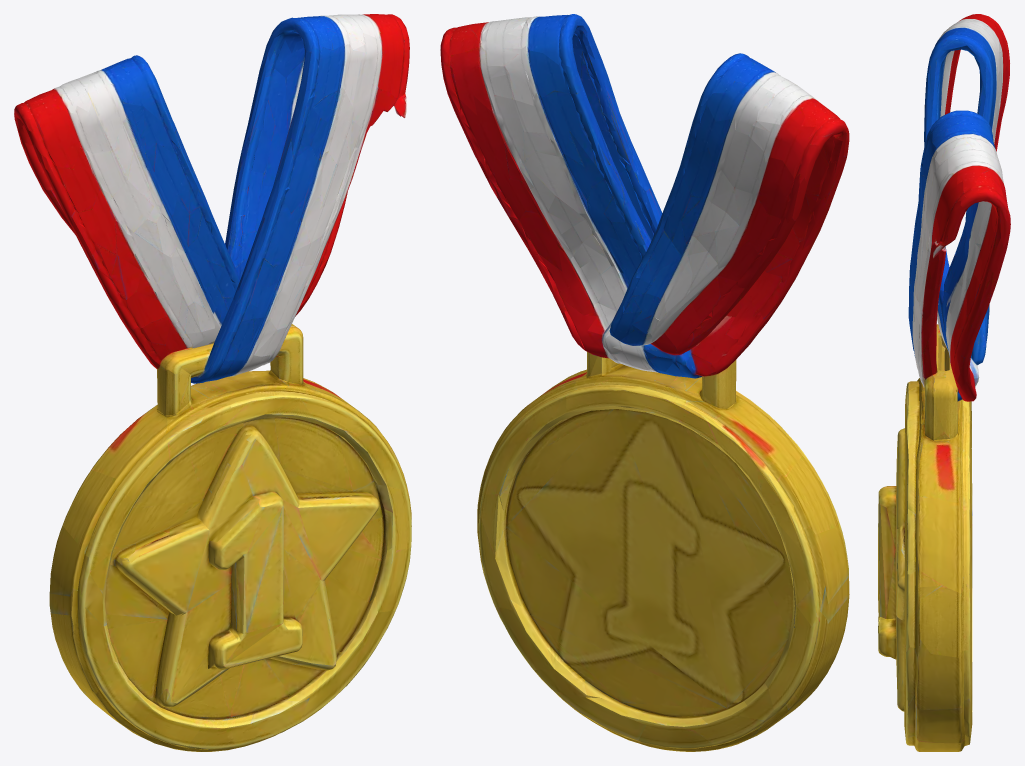
The model's file is gold_medal.glb.
3 renders of one model, left to right at view 1: azimuth 30°, elevation 25°; view 2: azimuth 150°, elevation 25°; view 3: azimuth 270°, elevation 25°, orthographic. The views are drawn at different scales.
Visible parts, largest first — view 1: Mesh_0; view 2: Mesh_0; view 3: Mesh_0.
Part boxes in pixels (x1,y1,x2,y2): Mesh_0: (14, 14, 411, 751); Mesh_0: (440, 14, 849, 751); Mesh_0: (878, 14, 1010, 751).
Size of the model in its own units: 0.5787 by 1 by 0.1818.
Materials: 1 (1 with a texture image).
